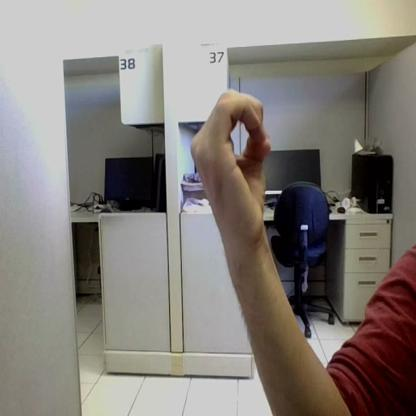O: (190, 89, 271, 225)
